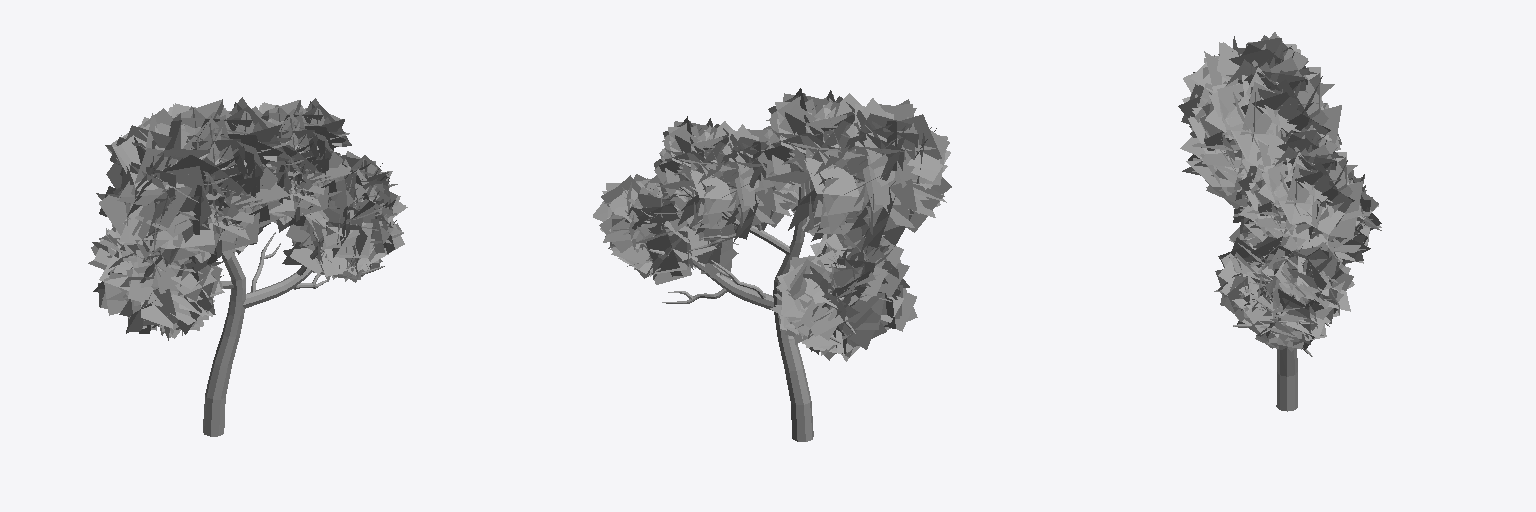
File: NormalTree_3.obj
The picture shows the model from 3 angles: view 1: azimuth 30°, elevation 25°; view 2: azimuth 150°, elevation 25°; view 3: azimuth 270°, elevation 25°; orthographic projection.
Visible parts, largest first — view 1: NormalTree_3_Cylinder.009; view 2: NormalTree_3_Cylinder.009; view 3: NormalTree_3_Cylinder.009.
Boxes of the visible parts, box(x1,y1,x2,y2) form: NormalTree_3_Cylinder.009: box(88, 97, 407, 436); NormalTree_3_Cylinder.009: box(593, 88, 951, 441); NormalTree_3_Cylinder.009: box(1178, 32, 1381, 411).
Size of the model in its own units: 5.04 by 5.28 by 2.88.